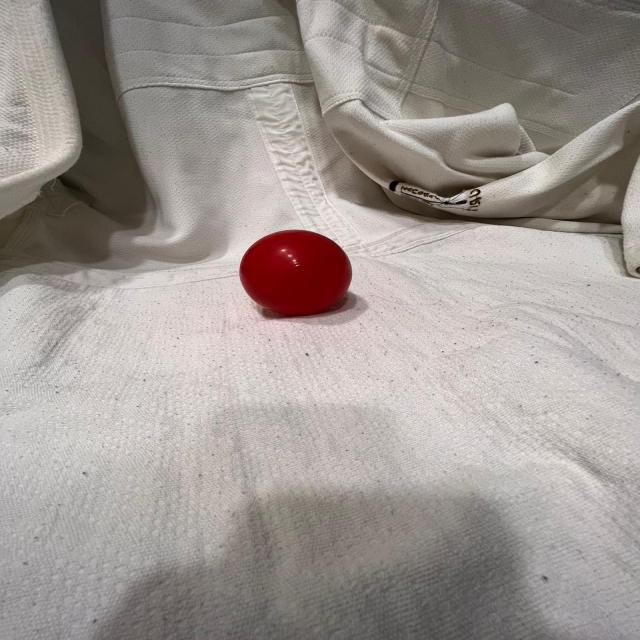ball: (236, 228, 356, 317)
